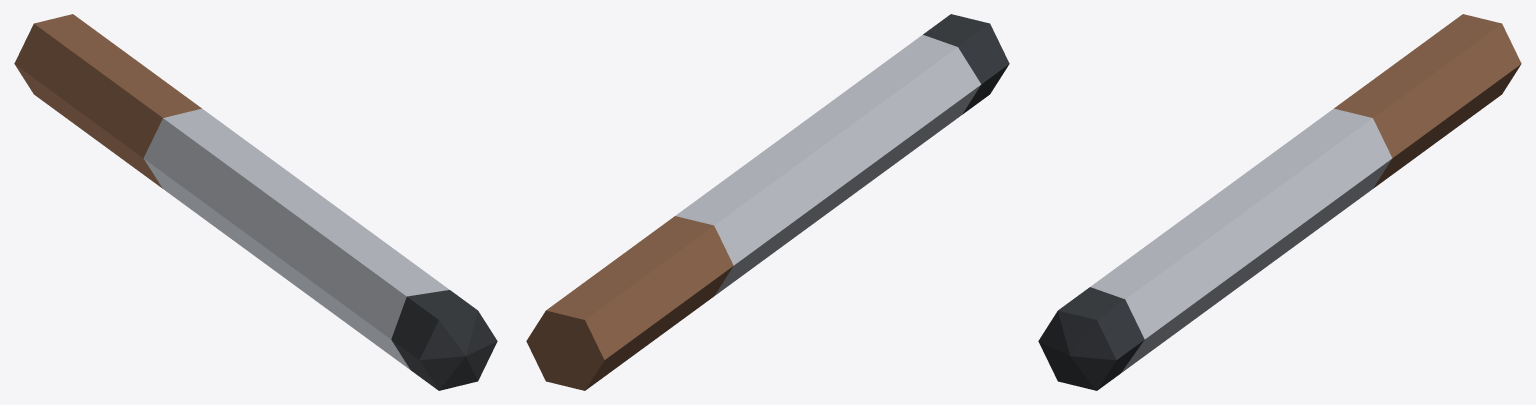
The model's file is SM_Item_Cigarette_01.obj.
3 renders of one model, left to right at view 1: azimuth 30°, elevation 25°; view 2: azimuth 150°, elevation 25°; view 3: azimuth 330°, elevation 25°, orthographic.
Visible parts, largest first — view 1: SM_Item_Cigarette_01_0; view 2: SM_Item_Cigarette_01_0; view 3: SM_Item_Cigarette_01_0.
Boxes of the visible parts, x1,y1,x2,y2 form: SM_Item_Cigarette_01_0: (14, 14, 497, 390); SM_Item_Cigarette_01_0: (526, 14, 1009, 390); SM_Item_Cigarette_01_0: (1038, 14, 1521, 390).
Bounding box in the file's own units: 0.0124 × 0.0107 × 0.113.
1 material, 1 textured.
